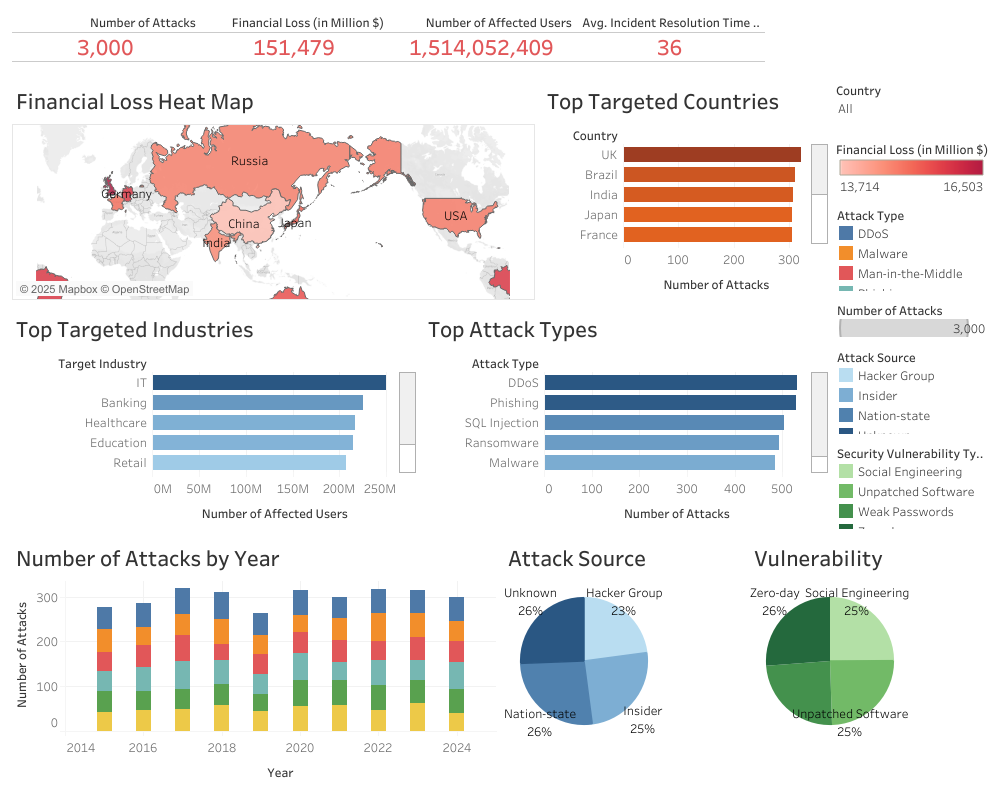

What the dashboard file says about the page in this screenshot:
{"tool":"tableau","page":{"name":"Dashboard 1","canvas":[1000,800],"ordinal":0},"visuals":[{"type":"worksheet","title":"Summary","mark":"Automatic","box":[8,8,984,68]},{"type":"worksheet","title":"Financial Loss Heat Map","mark":"Automatic","box":[8,76,531,228.5]},{"type":"worksheet","title":"Top Targeted Countries","mark":"Bar","rows":["Country"],"cols":["Calculation_1055533326282801"],"box":[539,76,293,228.5]},{"type":"filter","title":"Financial Loss Heat Map","param":"[federated.076qw5w087xeqo1c1dpob0l4twn8].[none:Country:nk]","box":[832,76,160,56]},{"type":"legend","title":"Financial Loss Heat Map","param":"[federated.076qw5w087xeqo1c1dpob0l4twn8].[sum:Financial Loss (in Million $):qk]","box":[832,132,160,68]},{"type":"legend","title":"Number of Attacks by Year","param":"[federated.076qw5w087xeqo1c1dpob0l4twn8].[none:Attack Type:nk]","box":[832,200,160,95.3]},{"type":"legend","title":"Attack Source","param":"[federated.076qw5w087xeqo1c1dpob0l4twn8].[usr:Calculation_1055533326282801:qk]","box":[832,295.3,160,47]},{"type":"worksheet","title":"Top Targeted Industries","mark":"Automatic","rows":["Target Industry"],"cols":["Number of Affected Users"],"box":[8,304.5,412,228.5]},{"type":"worksheet","title":"Top Attack Types","mark":"Automatic","rows":["Attack Type"],"cols":["Calculation_1055533326282801"],"box":[420,304.5,412,228.5]},{"type":"legend","title":"Attack Source","param":"[federated.076qw5w087xeqo1c1dpob0l4twn8].[none:Attack Source:nk]","box":[832,342.3,160,95.3]},{"type":"legend","title":"Vulnerability","param":"[federated.076qw5w087xeqo1c1dpob0l4twn8].[none:Security Vulnerability Type:nk]","box":[832,437.7,160,95.3]},{"type":"worksheet","title":"Number of Attacks by Year","mark":"Bar","rows":["Calculation_1055533326282801"],"cols":["Year"],"box":[8,533,492,259]},{"type":"worksheet","title":"Attack Source","mark":"Pie","box":[500,533,246,259]},{"type":"worksheet","title":"Vulnerability","mark":"Pie","box":[746,533,246,259]}]}

Visuals, with their boxes in screenshot pixels (x1, y1, x2, y2), scaled from the page's 1000x800 canvas onto the 999x799 screenshot:
"Summary" worksheet: x1=8, y1=8, x2=991, y2=76
"Financial Loss Heat Map" worksheet: x1=8, y1=76, x2=538, y2=304
"Top Targeted Countries" worksheet (Bar marks): x1=538, y1=76, x2=831, y2=304
"Financial Loss Heat Map" filter: x1=831, y1=76, x2=991, y2=132
"Financial Loss Heat Map" legend: x1=831, y1=132, x2=991, y2=200
"Number of Attacks by Year" legend: x1=831, y1=200, x2=991, y2=295
"Attack Source" legend: x1=831, y1=295, x2=991, y2=342
"Top Targeted Industries" worksheet: x1=8, y1=304, x2=420, y2=532
"Top Attack Types" worksheet: x1=420, y1=304, x2=831, y2=532
"Attack Source" legend: x1=831, y1=342, x2=991, y2=437
"Vulnerability" legend: x1=831, y1=437, x2=991, y2=532
"Number of Attacks by Year" worksheet (Bar marks): x1=8, y1=532, x2=500, y2=791
"Attack Source" worksheet (Pie marks): x1=500, y1=532, x2=745, y2=791
"Vulnerability" worksheet (Pie marks): x1=745, y1=532, x2=991, y2=791
